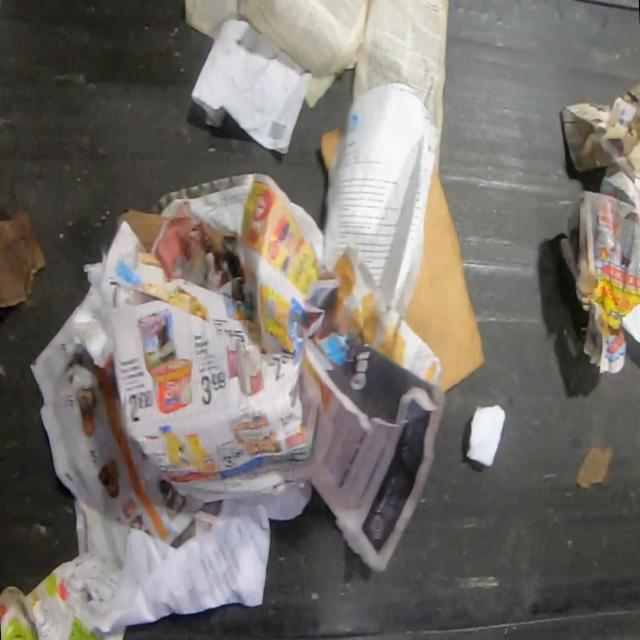cardboard: (403, 164, 485, 391), (0, 208, 46, 307), (118, 209, 163, 253), (318, 126, 343, 175)
